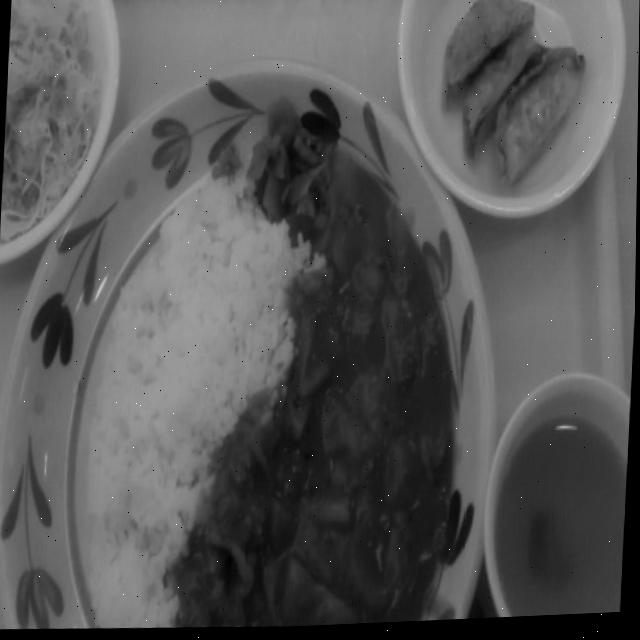带馅早点: (394, 0, 626, 241)
牛肉菜式: (0, 52, 515, 640)
蔬菜料理: (0, 0, 123, 286)
